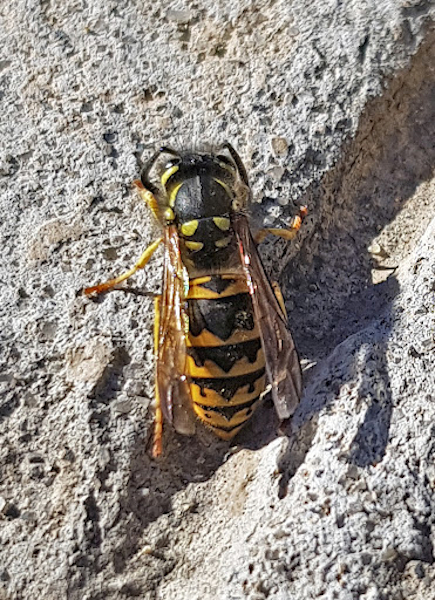chax: (88, 137, 322, 464)
